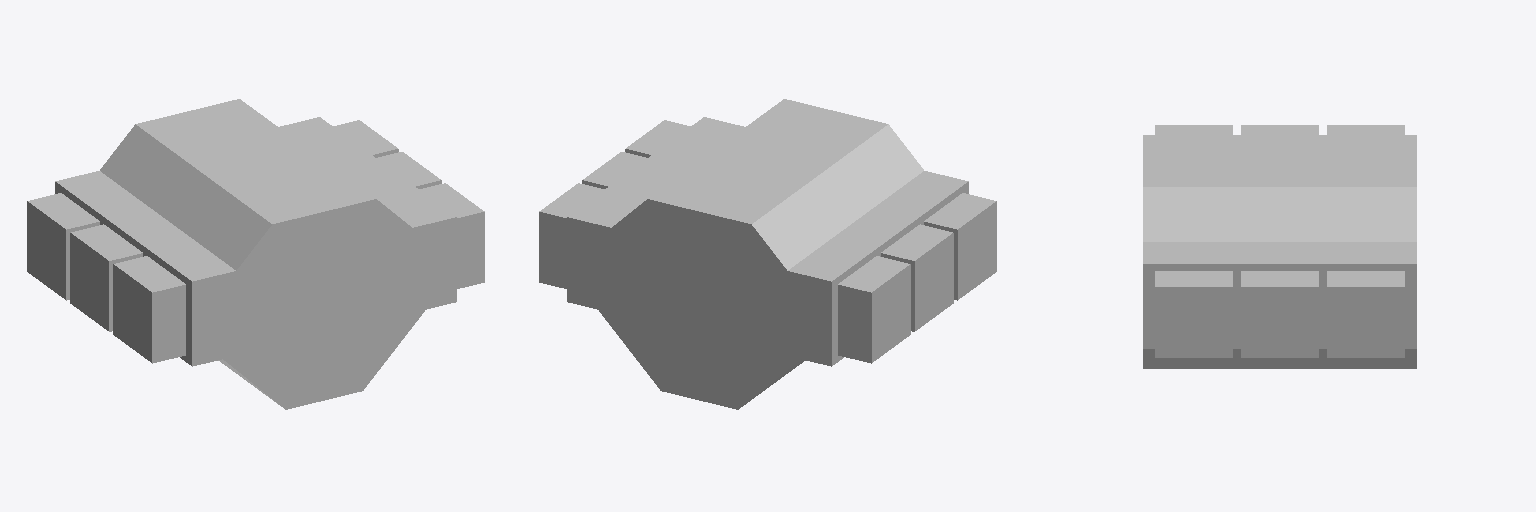
File: v6insolvoboxerauto.obj
3 views of the same model, side by side, from view 1: azimuth 30°, elevation 25°; view 2: azimuth 150°, elevation 25°; view 3: azimuth 270°, elevation 25° (orthographic).
Visible parts, largest first — view 1: cube; view 2: cube; view 3: cube.
Part boxes in pixels (x1,y1,x2,y2): cube: (27,99,484,409); cube: (539,99,996,409); cube: (1143,125,1416,368).
Bounding box in the file's own units: 0.766 × 0.4161 × 0.5469.